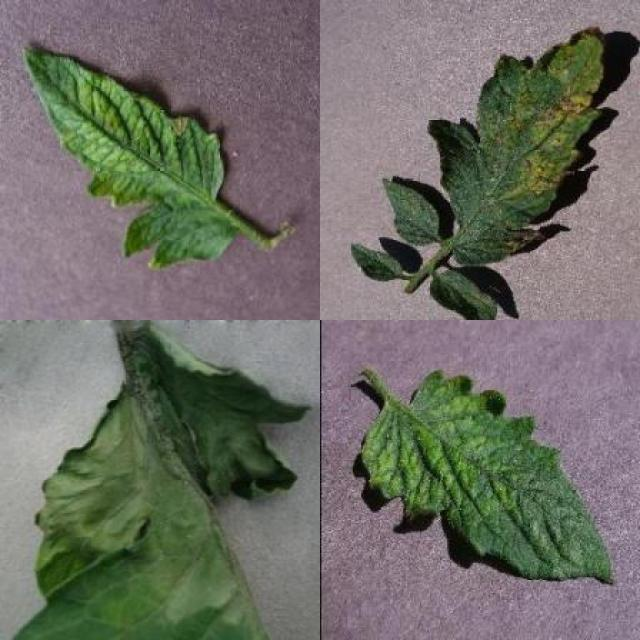Late Blight: (5, 323, 321, 640)
Mosaic Virus: (361, 369, 616, 585), (22, 39, 238, 270)
Septoria: (430, 26, 603, 266)
